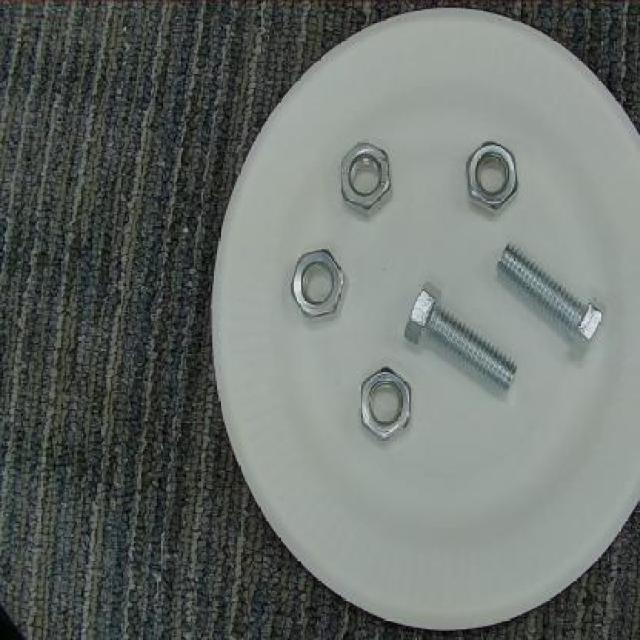Bolt: (494, 238, 608, 362), (405, 285, 522, 392)
Nut: (461, 135, 522, 220), (338, 138, 396, 222), (288, 246, 346, 325), (353, 366, 409, 446)
